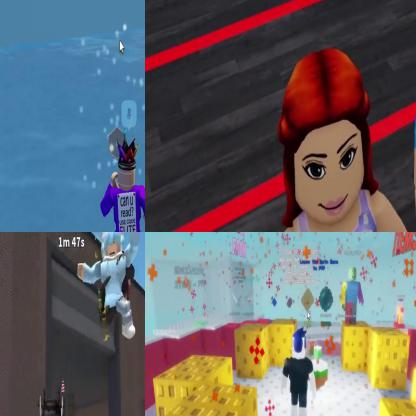Roblox-Avatar: (279, 48, 416, 232), (78, 233, 142, 345), (101, 129, 145, 232), (281, 327, 318, 416), (26, 386, 73, 416), (342, 268, 366, 326)
